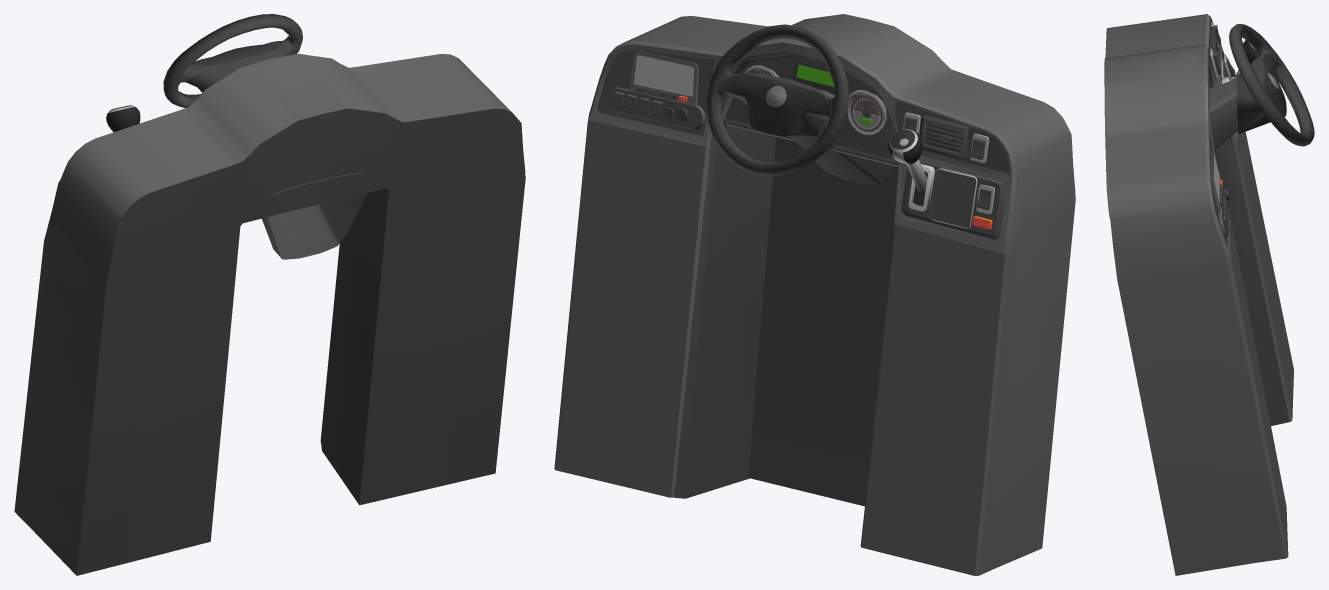
File: Car_Dashboard.fbx
3 views of the same model, side by side, from view 1: azimuth 30°, elevation 25°; view 2: azimuth 150°, elevation 25°; view 3: azimuth 270°, elevation 25° (orthographic). The views are drawn at different scales.
Parts seen in each view (by area): view 1: Base, Rubble, Shifter; view 2: Base, Rubble, TaxiCounter, Base1, Shifter, TaxiCounter1, TransmissionBase; view 3: Base, Rubble, TaxiCounter.
Boxes of the visible parts, left/top/right/bottom form: Base: left=14, top=53, right=525, bottom=575; Rubble: left=163, top=14, right=302, bottom=107; Shifter: left=106, top=105, right=140, bottom=132; Base: left=554, top=14, right=1075, bottom=575; Rubble: left=706, top=24, right=848, bottom=176; TaxiCounter: left=629, top=51, right=698, bottom=105; Base1: left=930, top=168, right=994, bottom=228; Shifter: left=888, top=129, right=927, bottom=192; TaxiCounter1: left=613, top=91, right=992, bottom=229; TransmissionBase: left=908, top=164, right=934, bottom=212; Base: left=1104, top=14, right=1293, bottom=575; Rubble: left=1229, top=24, right=1314, bottom=146; TaxiCounter: left=1210, top=149, right=1222, bottom=211.
Bounding box in the file's own units: 359 × 395 × 168.
Materials: 6 (1 with a texture image).
